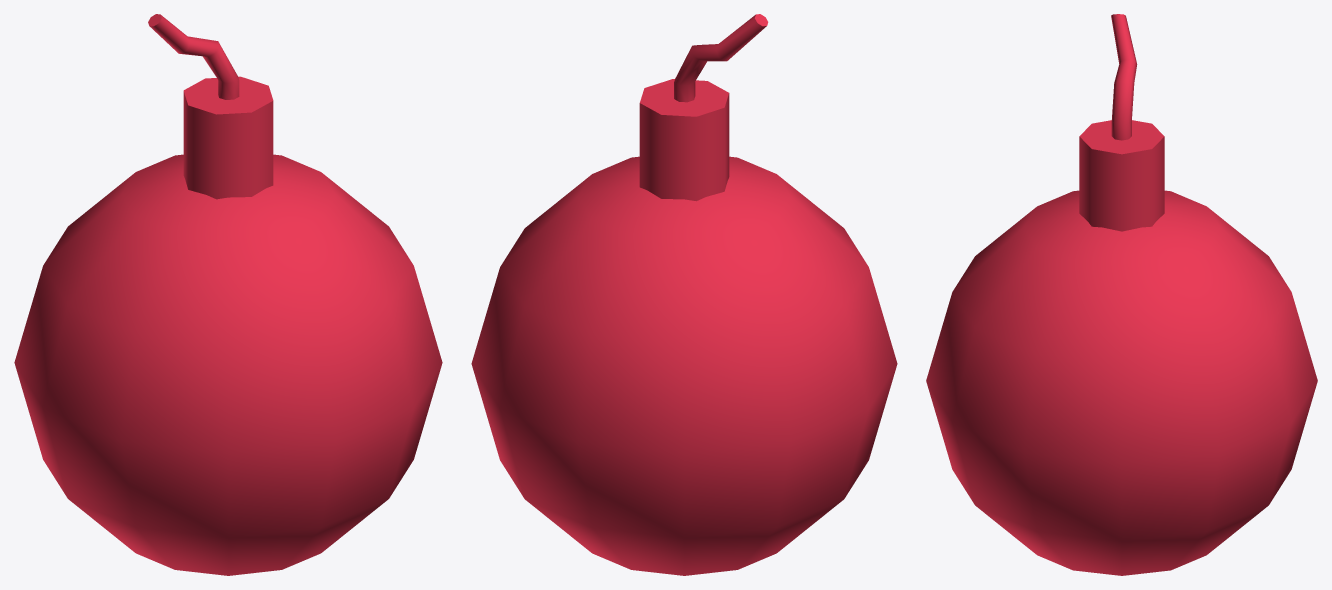
The model's file is low_poly_bomb.fbx.
3 renders of one model, left to right at view 1: azimuth 30°, elevation 25°; view 2: azimuth 150°, elevation 25°; view 3: azimuth 270°, elevation 25°, orthographic. The views are drawn at different scales.
Visible parts, largest first — view 1: bomb_lowpoly; view 2: bomb_lowpoly; view 3: bomb_lowpoly.
Part boxes in pixels (box(x1,y1,x2,y2)): bomb_lowpoly: box(14, 14, 442, 575); bomb_lowpoly: box(471, 14, 897, 575); bomb_lowpoly: box(926, 14, 1317, 575).
Bounding box in the file's own units: 454 × 656 × 454.
